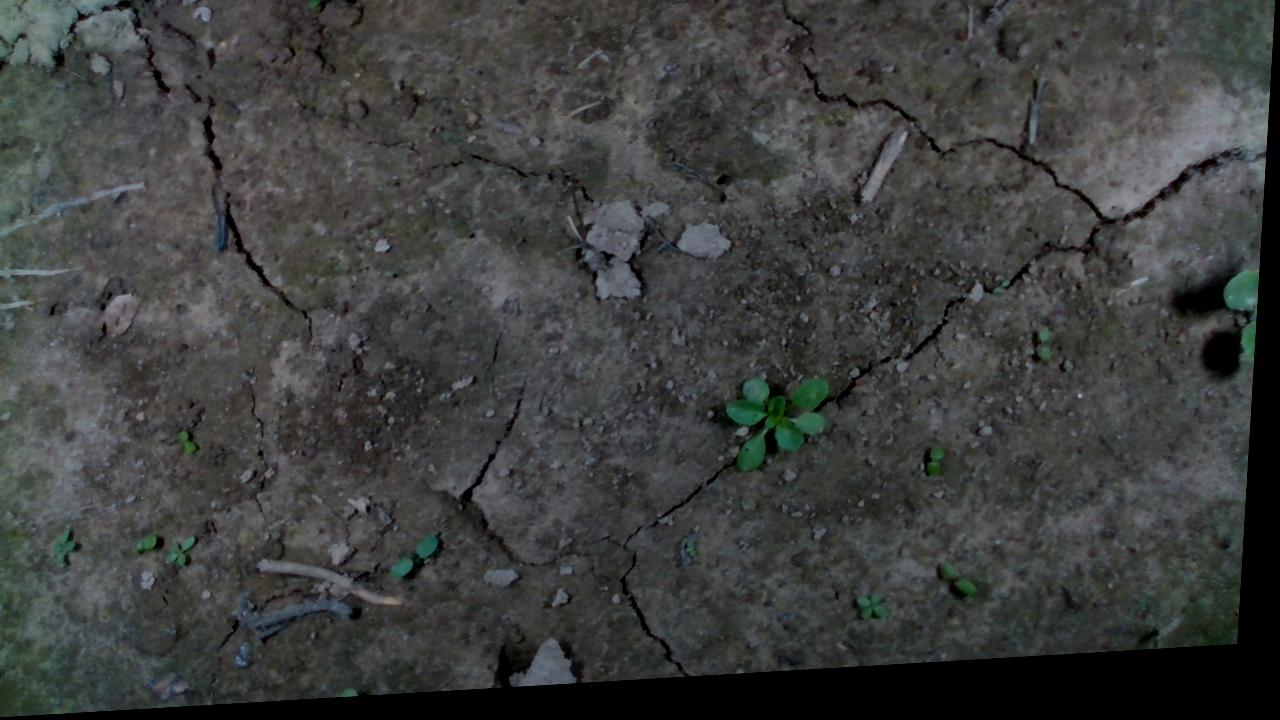weed: (395, 536, 446, 585), (942, 569, 988, 610), (56, 525, 85, 569), (169, 535, 202, 573), (861, 601, 898, 630), (929, 455, 953, 490), (1039, 335, 1060, 375), (138, 533, 165, 555), (180, 431, 202, 458)
